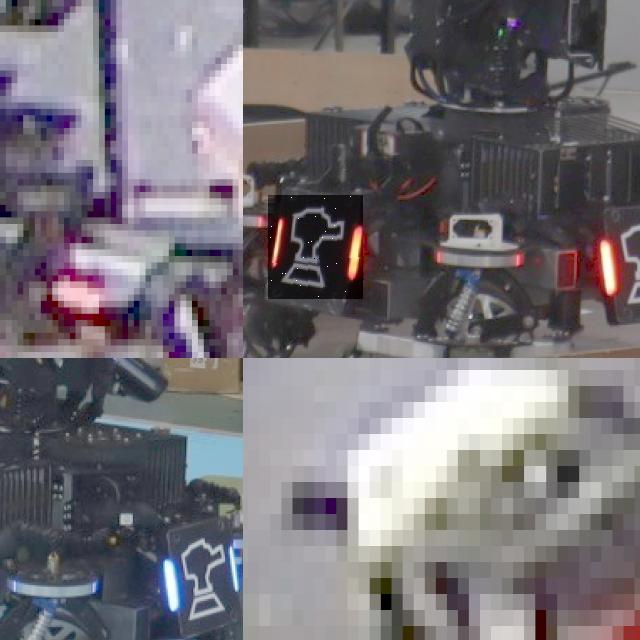Bs: (156, 532, 243, 625)
Rs: (268, 195, 363, 299), (598, 221, 640, 314)
